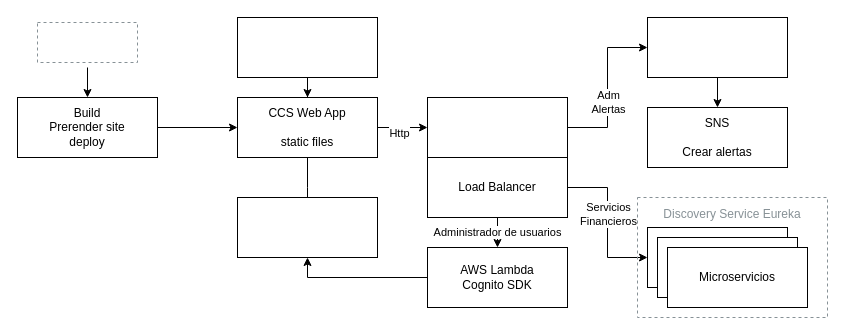
Image size: 845x335. Some labels were removed from this diagram. The shapes that lost their labels are listed below. From the top down, each one's centre as x and y in pixels, then its label:
point 87,42: Jamstack Gatsby + React
point 307,47: CDN / CMS
point 717,47: AWS Lambda SNS SDK
point 497,127: ApiGateway
point 307,227: Autenticación Autorización Amazon Cognito
